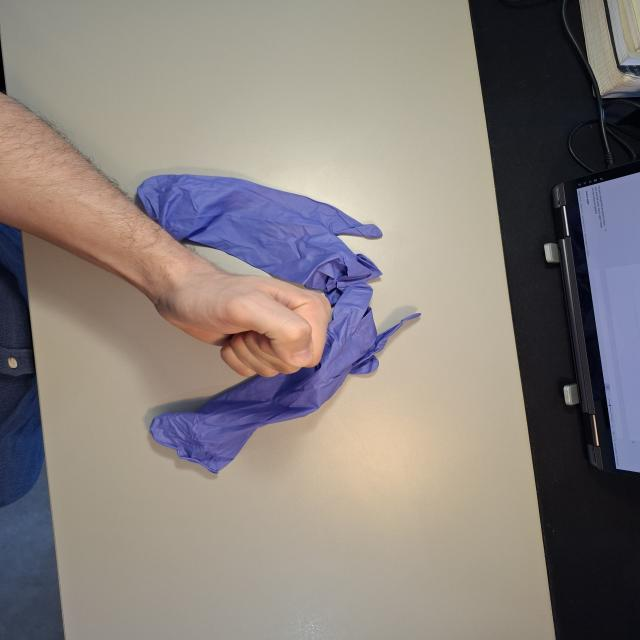glove_off: (150, 258, 334, 379)
